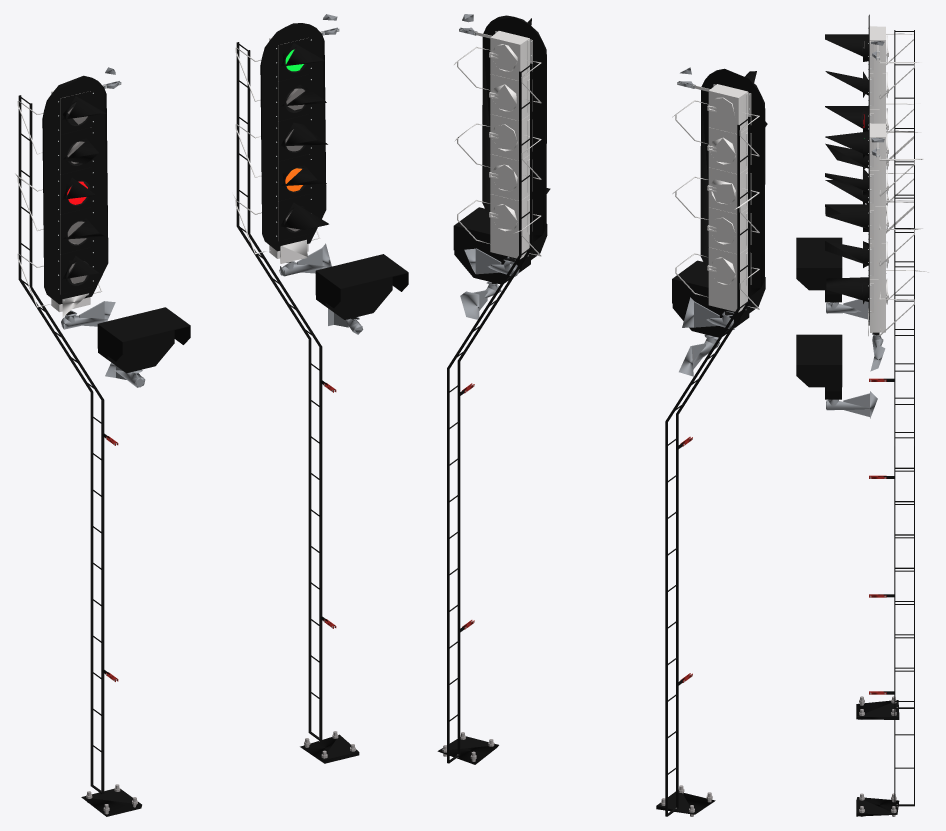
File: light_signals.glb
3 views of the same model, side by side, from view 1: azimuth 30°, elevation 25°; view 2: azimuth 150°, elevation 25°; view 3: azimuth 270°, elevation 25° (orthographic). The views are drawn at different scales.
Parts seen in each view (by area): view 1: Object_5; view 2: Object_5; view 3: Object_5.
Part boxes in pixels (bbox=[...]): Object_5: bbox=[15, 14, 408, 816]; Object_5: bbox=[437, 14, 767, 816]; Object_5: bbox=[796, 14, 928, 816].
Bounding box in the file's own units: 2.99 × 6.5 × 1.18.
Materials: 5 (5 with a texture image).
